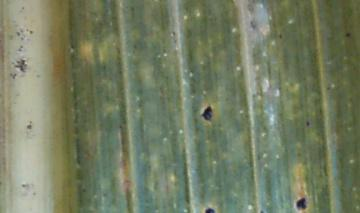tarspot: (201, 106, 213, 121), (297, 197, 307, 210), (205, 207, 217, 213), (344, 31, 352, 38), (305, 120, 311, 128), (279, 34, 283, 40), (259, 210, 264, 213)
